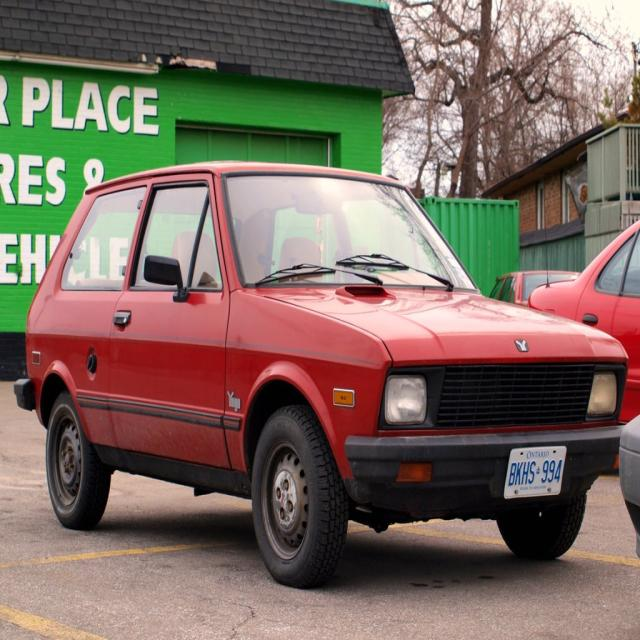car: (12, 157, 608, 588)
